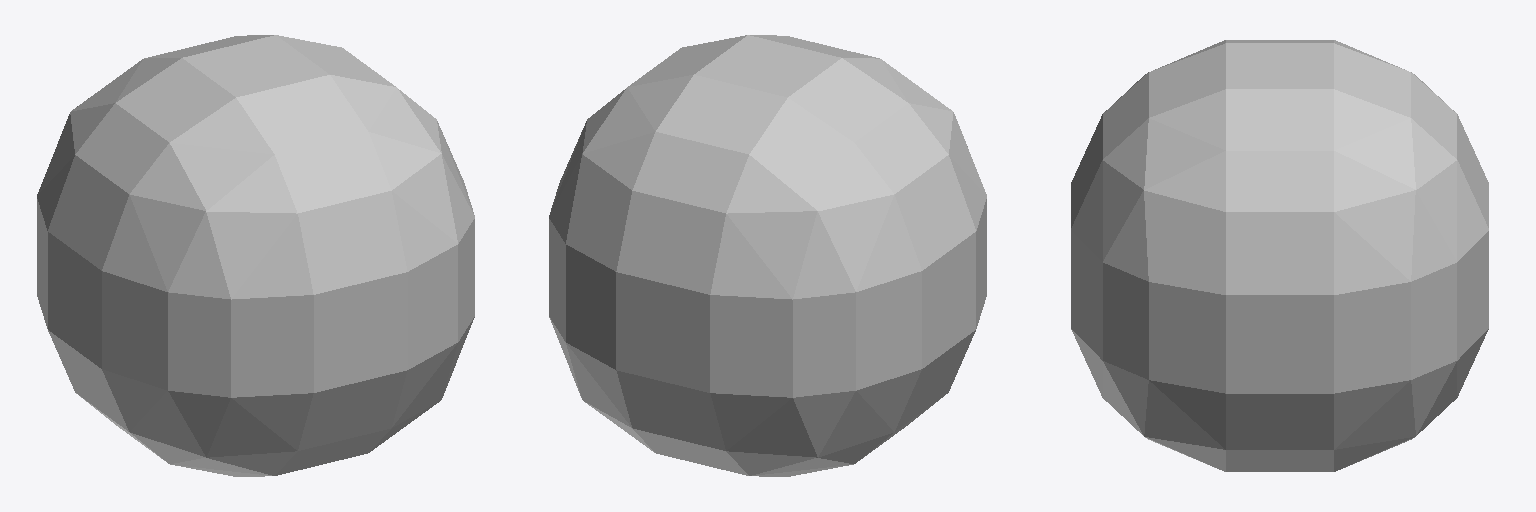
File: Cristal2.obj
3 renders of one model, left to right at view 1: azimuth 30°, elevation 25°; view 2: azimuth 150°, elevation 25°; view 3: azimuth 270°, elevation 25°, orthographic.
Visible parts, largest first — view 1: Cube; view 2: Cube; view 3: Cube.
Boxes of the visible parts, box(x1,y1,x2,y2) form: Cube: box(37, 35, 474, 476); Cube: box(549, 35, 986, 476); Cube: box(1071, 40, 1488, 471).
Size of the model in its own units: 2 by 2 by 2.